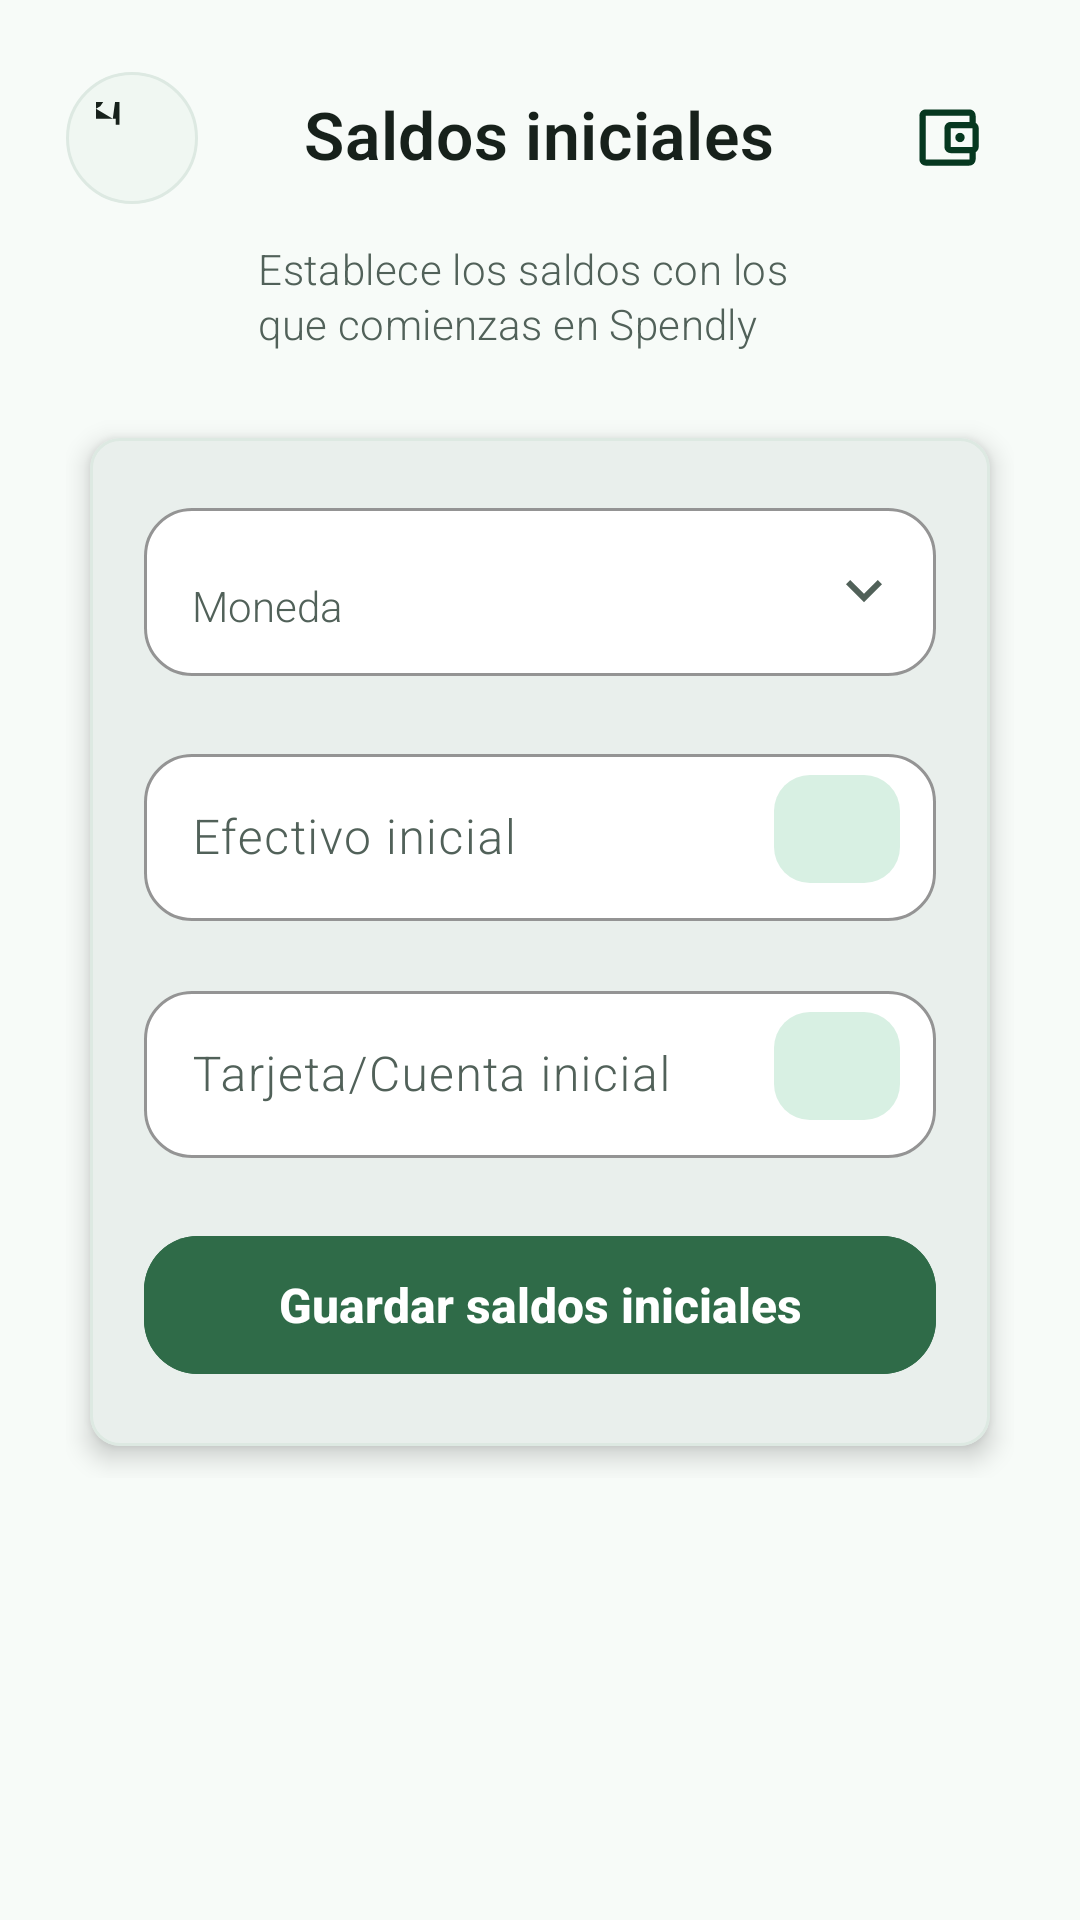

Screen size 1080w x 1920h. Icon name, then its center in pixels as [x,y]:
account balance wallet: [949,137]
